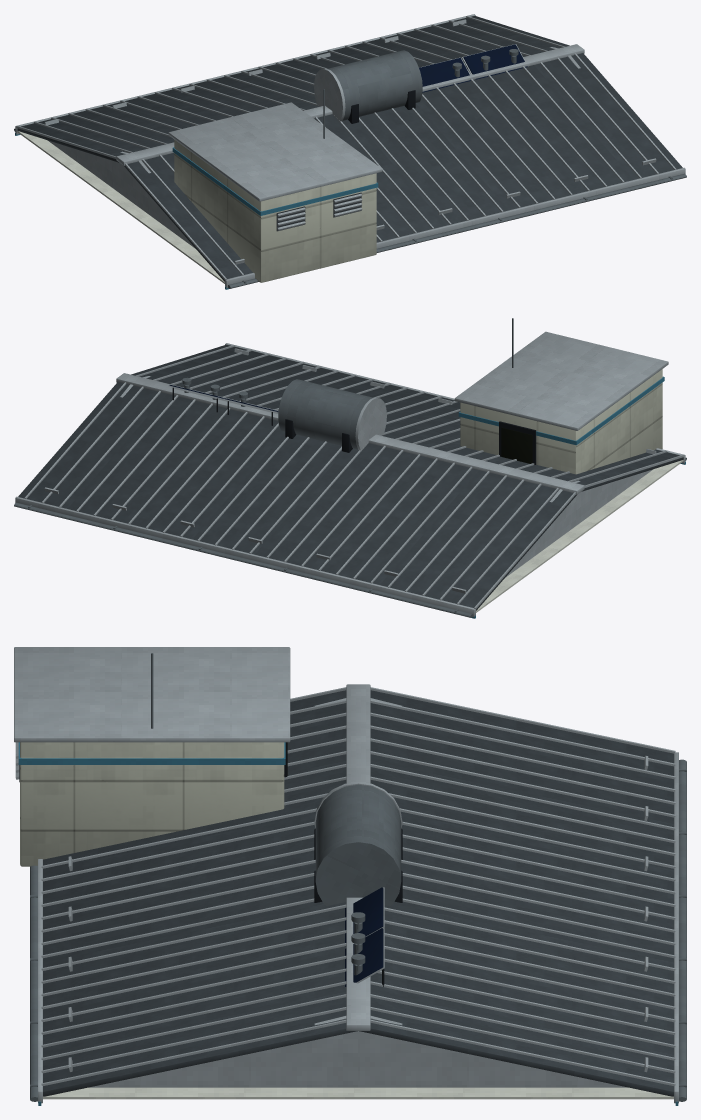
The model's file is fac_hygiene_roof.glb.
3 views of the same model, one above another, from view 1: azimuth 30°, elevation 25°; view 2: azimuth 150°, elevation 25°; view 3: azimuth 270°, elevation 25° (orthographic). The views are drawn at different scales.
Parts seen in each view (by area): view 1: FAC_HYGIENE_ROOF; view 2: FAC_HYGIENE_ROOF; view 3: FAC_HYGIENE_ROOF.
Boxes of the visible parts, x1,y1,x2,y2 form: FAC_HYGIENE_ROOF: [14, 14, 686, 289]; FAC_HYGIENE_ROOF: [14, 318, 686, 618]; FAC_HYGIENE_ROOF: [14, 647, 686, 1105].
Bounding box in the file's own units: 14.66 × 4.26 × 12.23.
11 materials, 11 textured.
